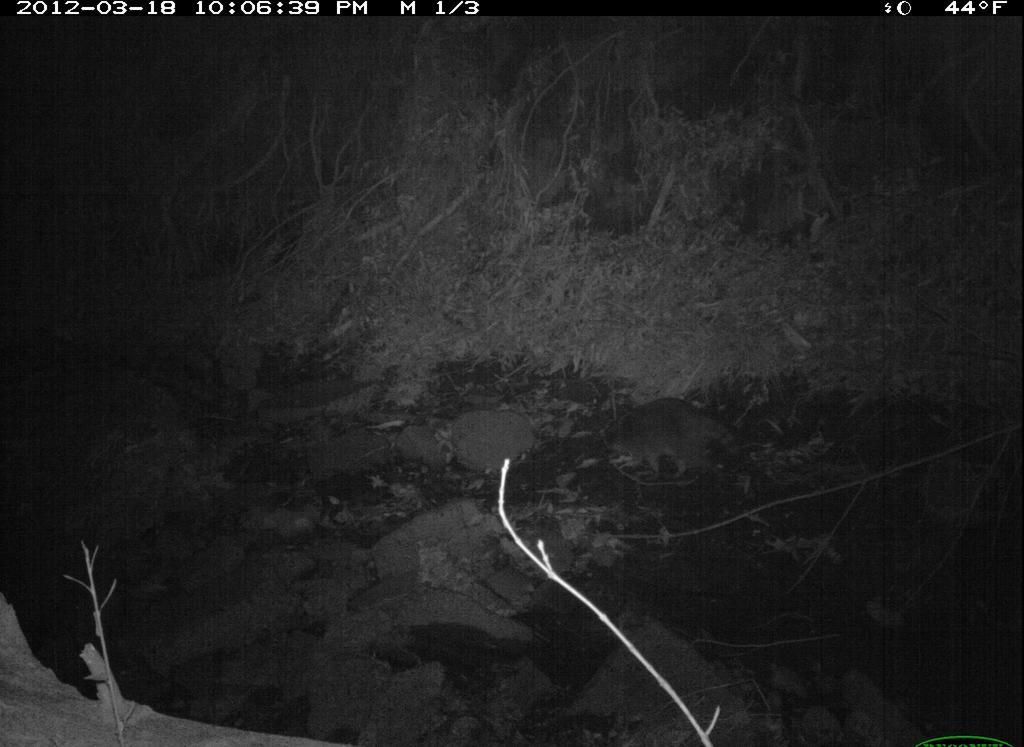raccoon: (591, 388, 760, 492)
